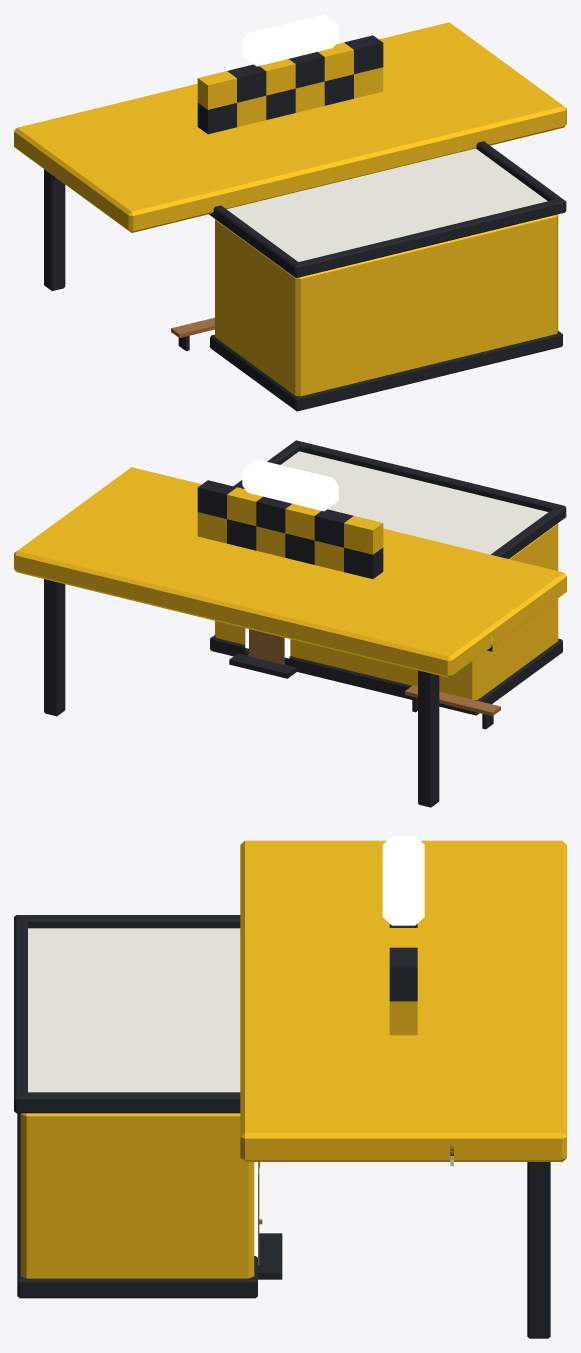
Rendered from bld_taxi.glb.
3 views of the same model, one above another, from view 1: azimuth 30°, elevation 25°; view 2: azimuth 150°, elevation 25°; view 3: azimuth 270°, elevation 25° (orthographic). The views are drawn at different scales.
Parts seen in each view (by area): view 1: bld_taxi; view 2: bld_taxi; view 3: bld_taxi.
Part boxes in pixels (box(x1,y1,x2,y2)): bld_taxi: box(14, 14, 566, 411); bld_taxi: box(14, 440, 566, 807); bld_taxi: box(14, 836, 566, 1338).
Bounding box in the file's own units: 15 × 8.27 × 11.85.
